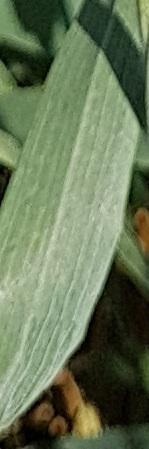Wheat: (24, 156, 110, 256), (0, 265, 66, 340), (77, 69, 136, 152), (87, 2, 149, 66)
